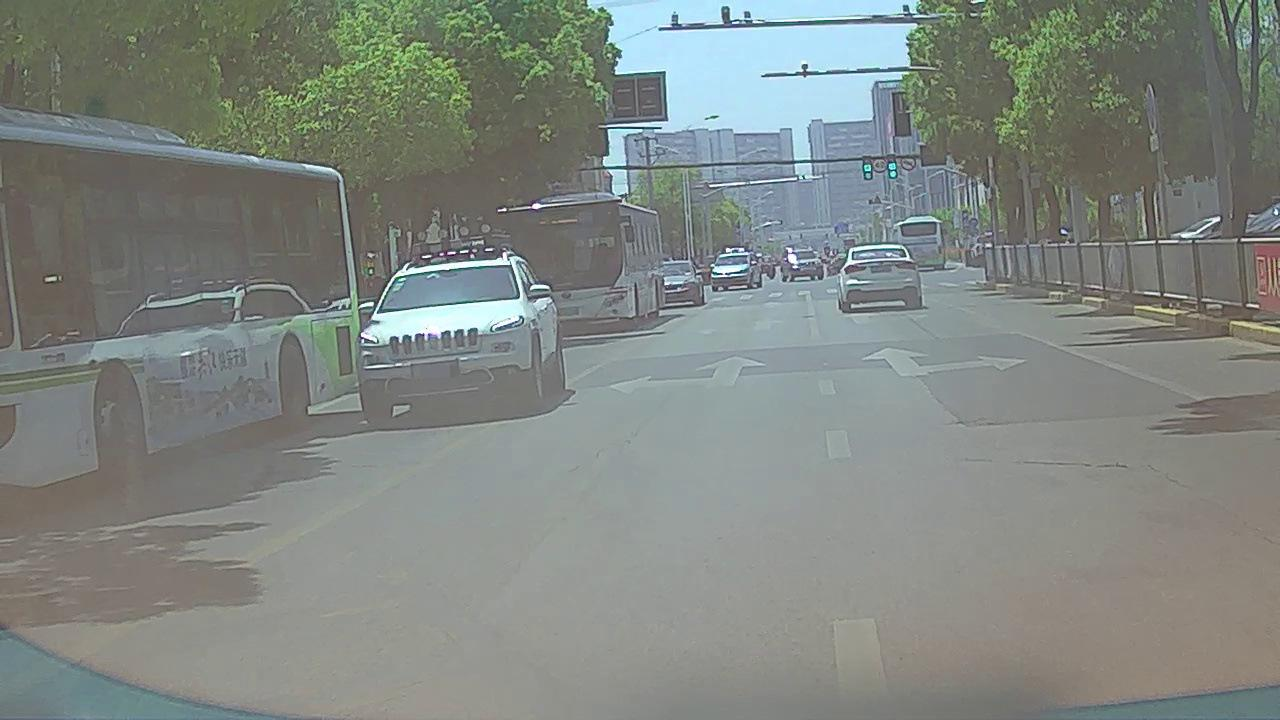traffic_light: (887, 154, 898, 178), (863, 154, 873, 179)
